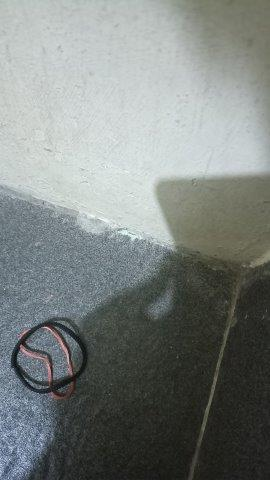karet: (11, 321, 88, 399)
